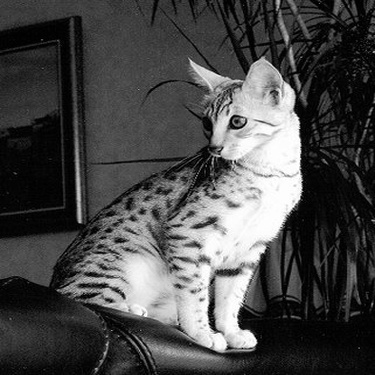cat: (43, 37, 303, 354)
